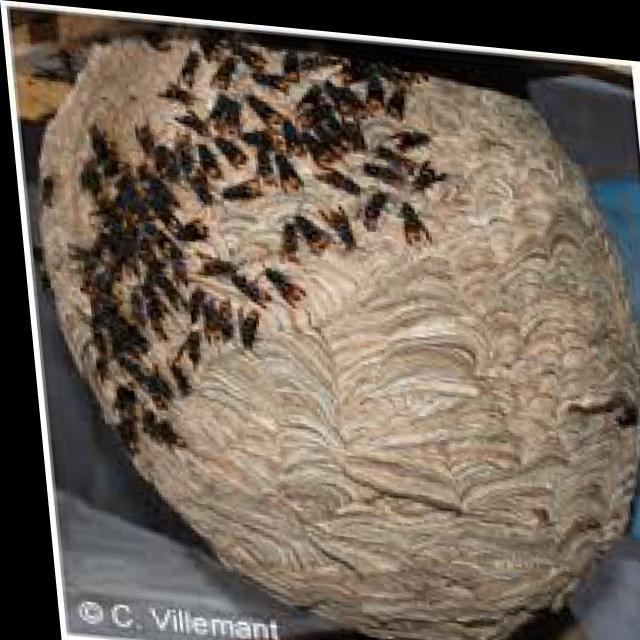Vespa Velutina: (130, 403, 183, 453), (255, 254, 304, 302), (392, 191, 429, 242), (316, 196, 354, 244), (228, 299, 261, 350), (387, 119, 437, 146)
